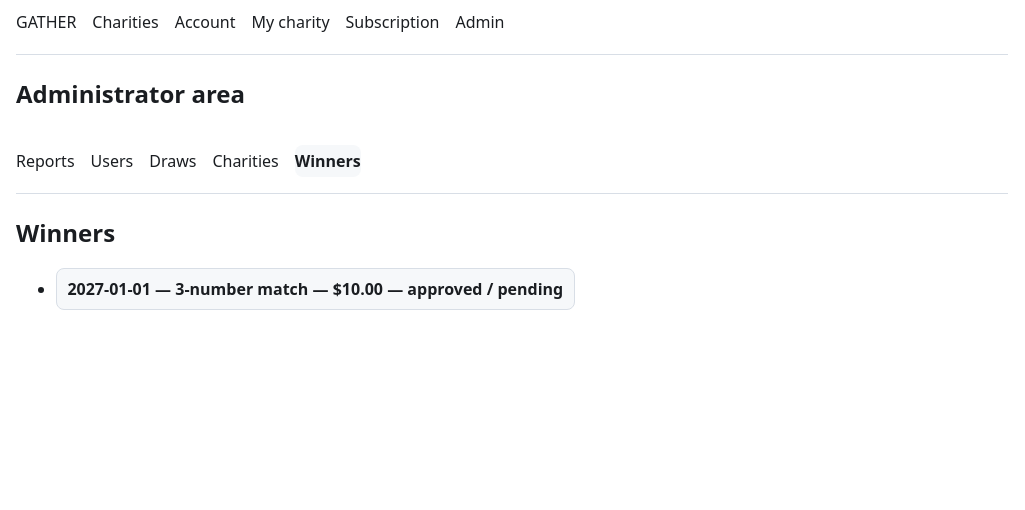
Test: AdminPage winners queue — approve/reject and mark paid (PRD §11 ADM-06) › marks an approved winner’s payout paid
The image size is (1025, 510).
Step 1. Click the button "2027-01-01 — 3-number match — $10.00 — approved / pending" → [315, 289], box [56,268,575,310]
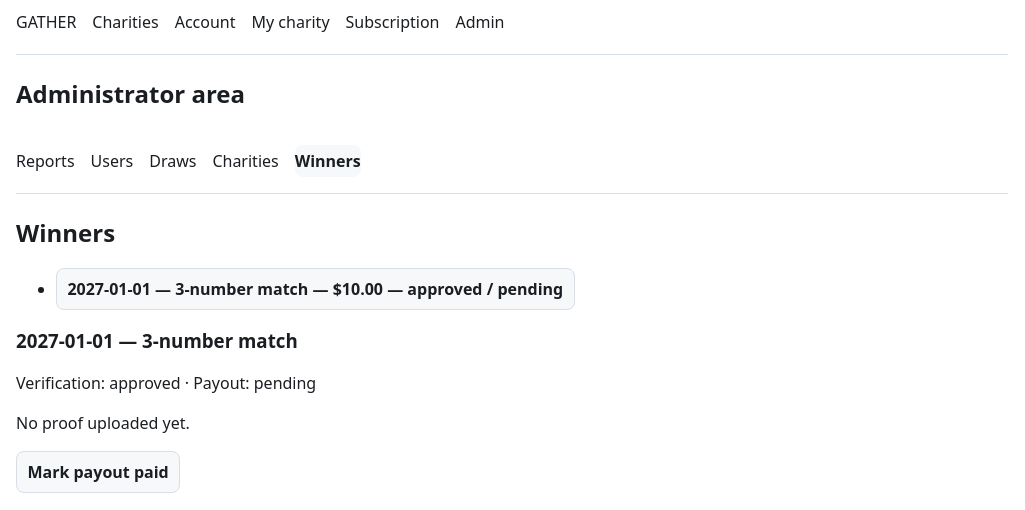
Step 2. Click the button "Mark payout paid" → [98, 472], box [16,451,180,493]
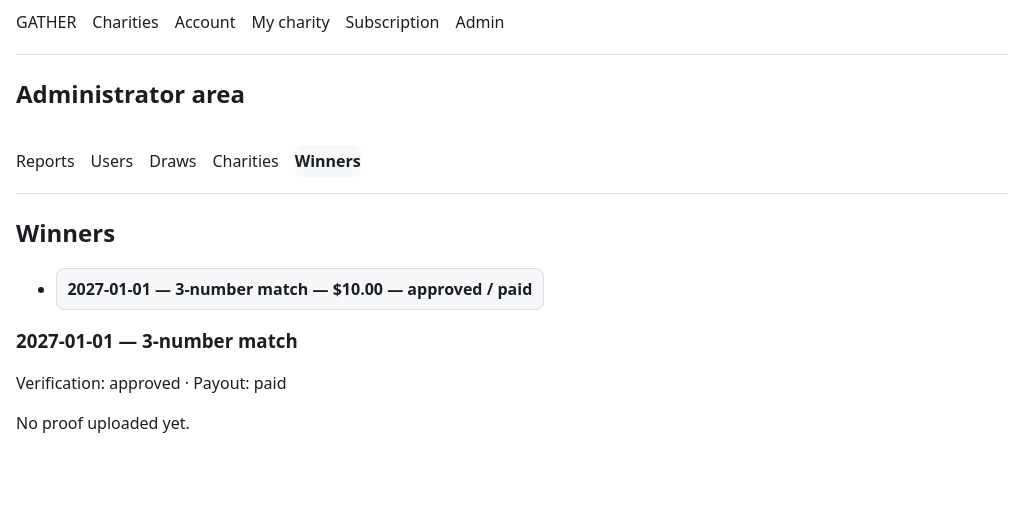
Check: the text "Verification: approved · Payout: paid" is shown, box [16,372,287,394]
